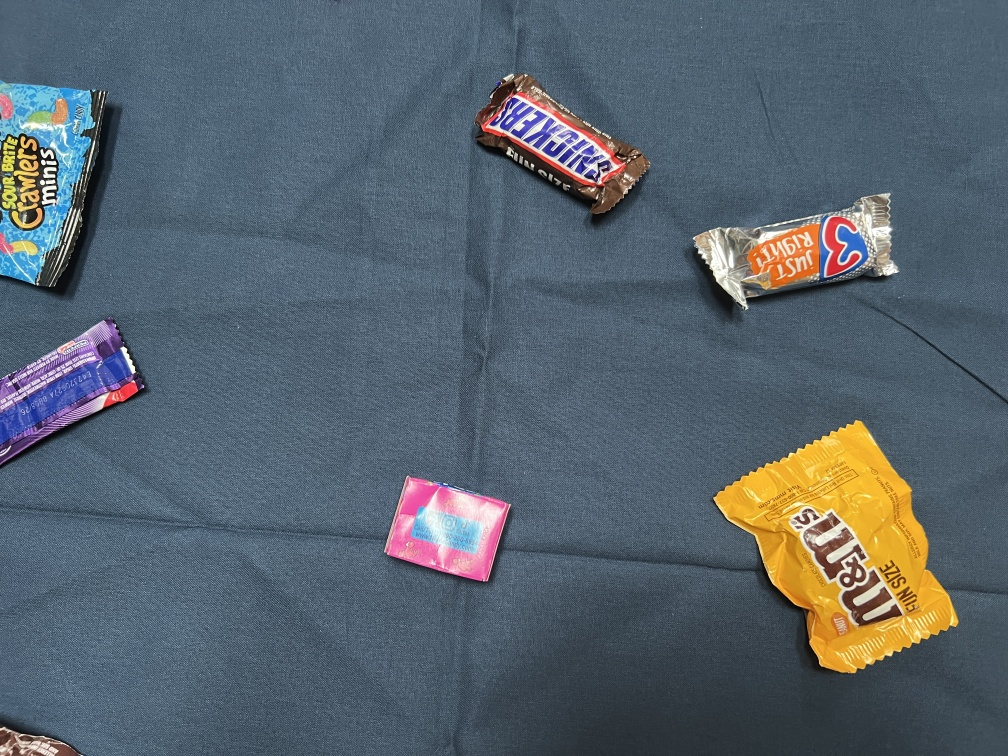MMs_regular: (675, 182, 937, 314)
gummy_worms: (0, 69, 120, 296), (3, 316, 166, 474)
nerds: (706, 416, 971, 679), (378, 466, 519, 596)
snickers: (463, 62, 659, 231)
